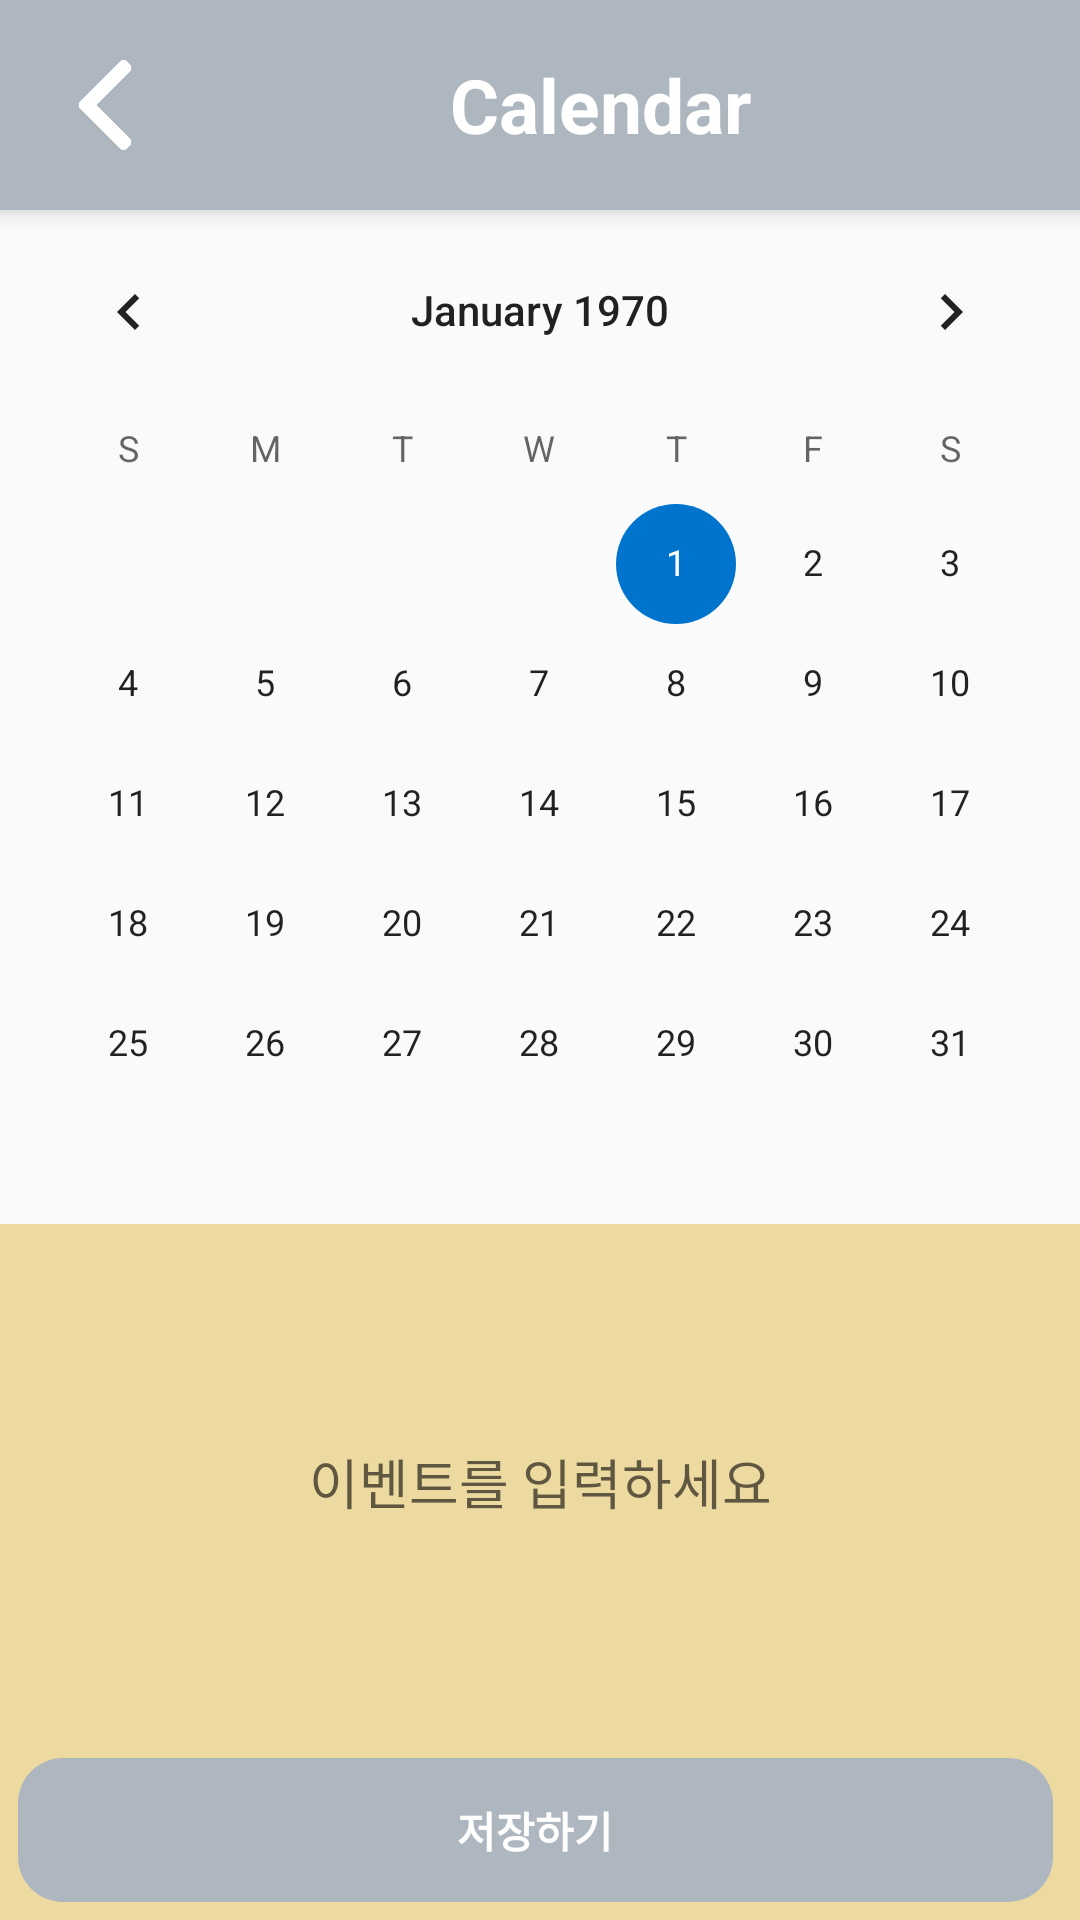

Named icons in this screenshot (1080*1920) and their centers, (x,y):
leftarrow: (105,105)
